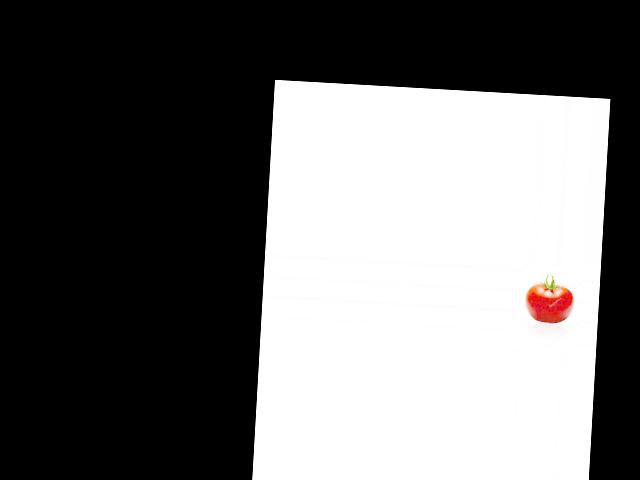tomato: (524, 283, 575, 324)
